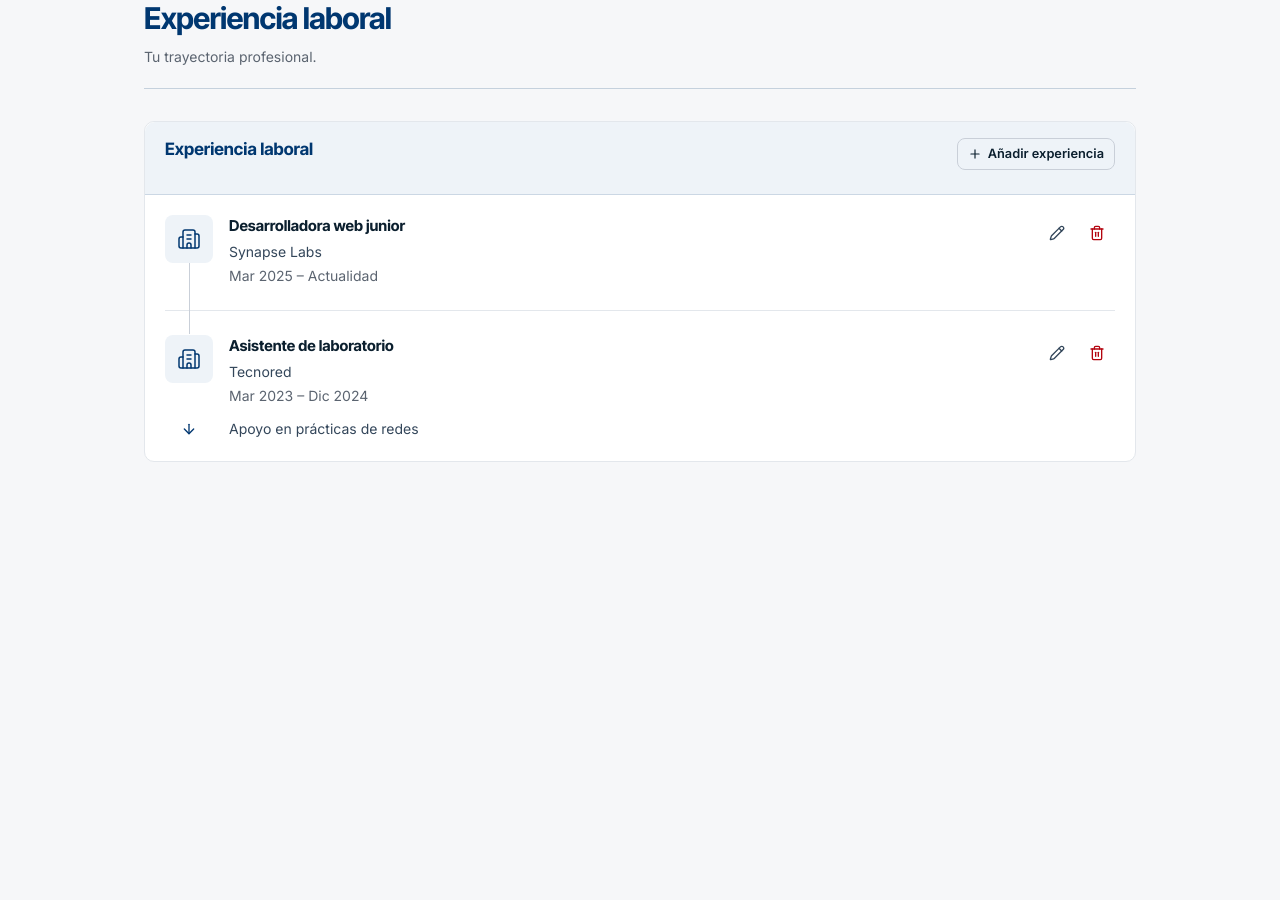
Scenario: WorkExperienceView › asks for confirmation and keeps the experience when the deletion is cancelled
Expected: the heading "Asistente de laboratorio" is shown, [229,336,394,355]
Click the button named "Eliminar Asistente de laboratorio". click: (1097, 353)
box: [1079,335,1115,371]
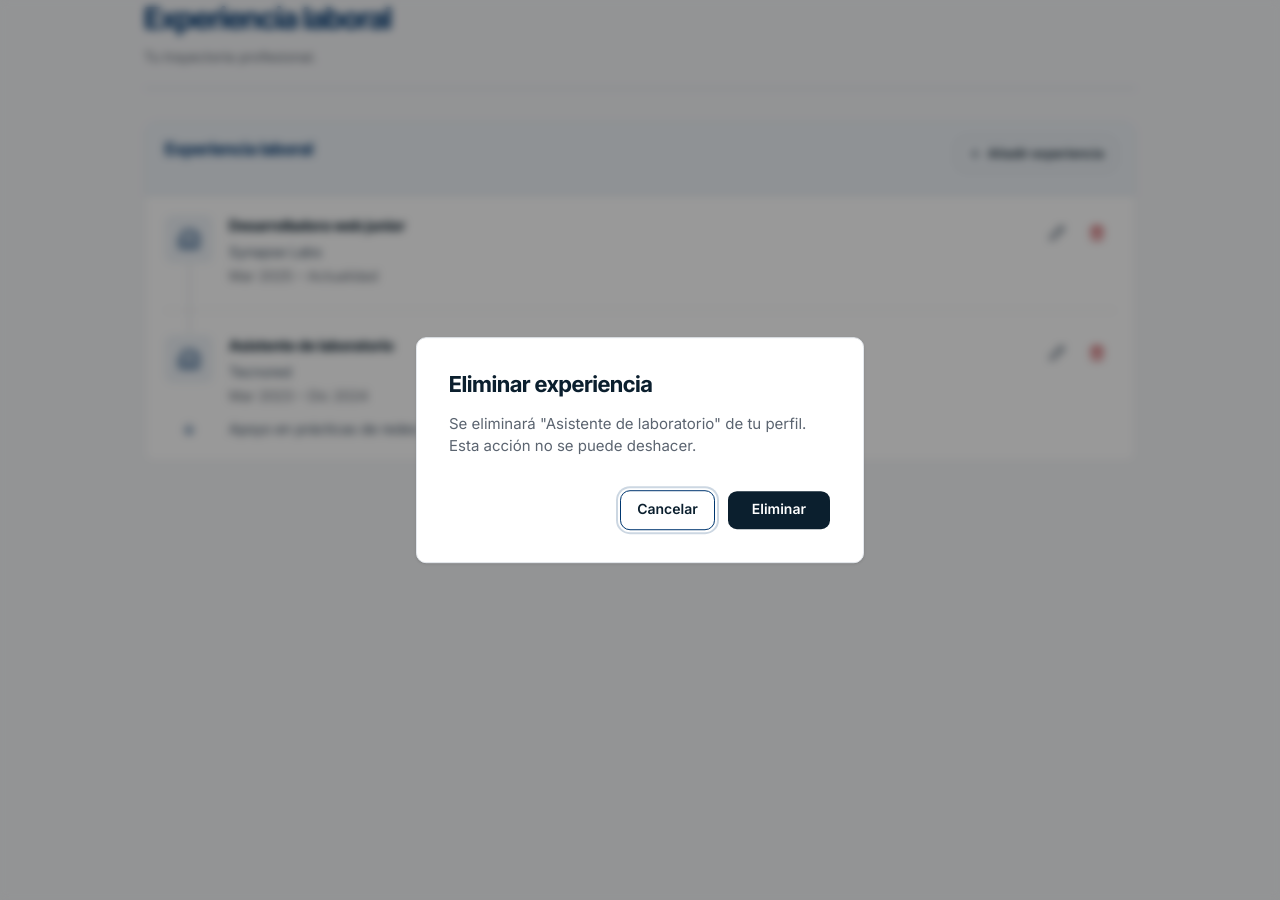
Expected: the dialog shows "Se eliminará \"Asistente de laboratorio\" de tu perfil.", [449,414,806,455]
Click the button "Cancelar". click: (667, 510)
box: [620,490,715,530]
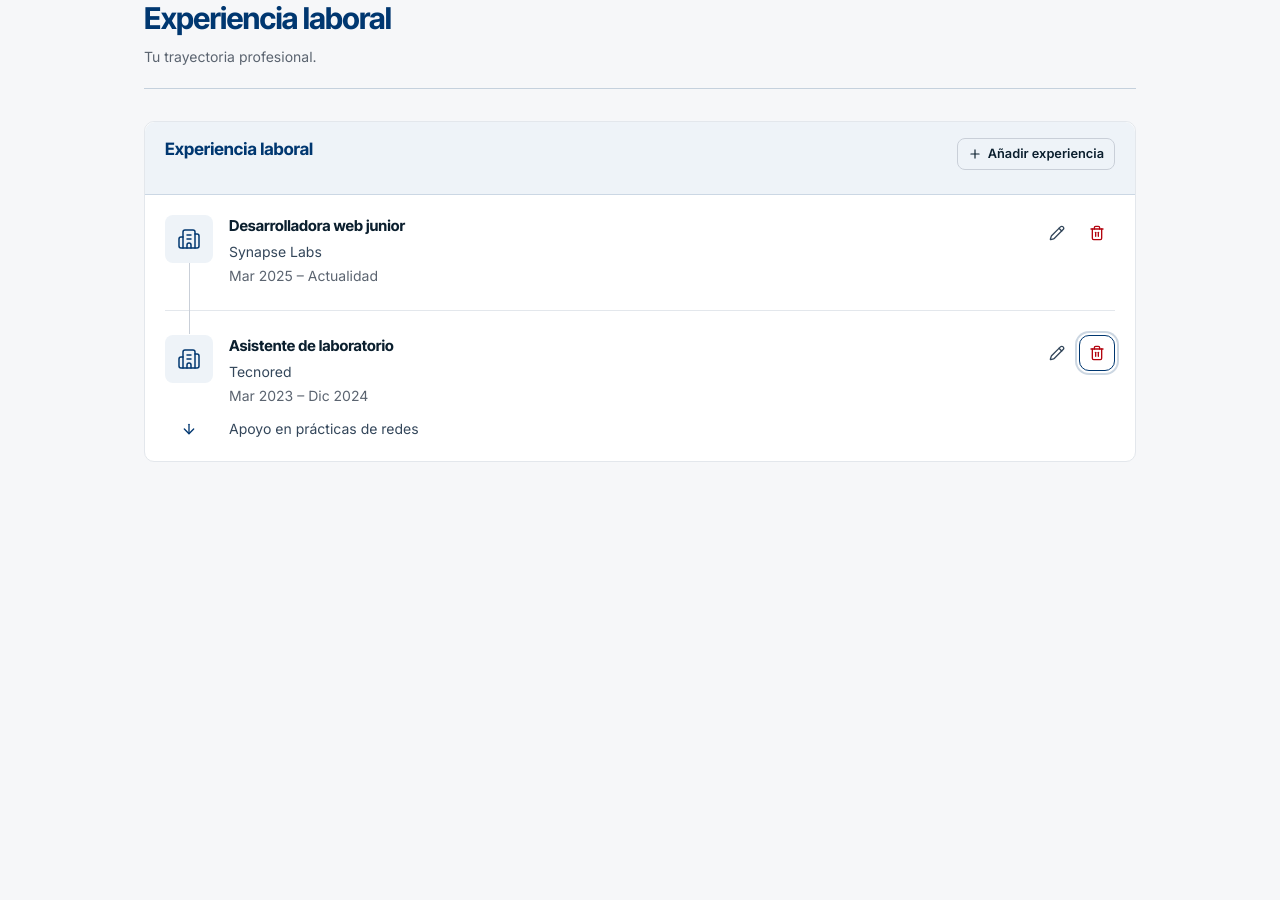
Expected: the heading "Asistente de laboratorio" is shown, [229,336,394,355]
Expected: the dialog is gone
